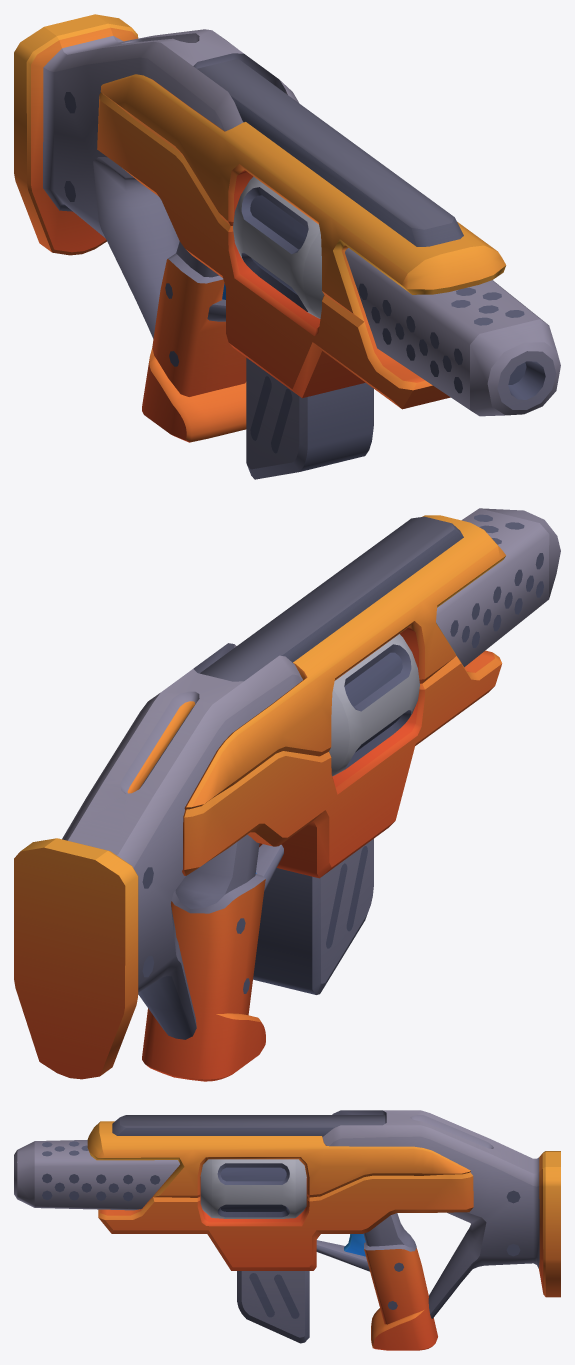
Rendered from Rifle F.fbx.
The picture shows the model from 3 angles, top to bottom: view 1: azimuth 30°, elevation 25°; view 2: azimuth 150°, elevation 25°; view 3: azimuth 270°, elevation 25°; orthographic projection. The views are drawn at different scales.
Visible parts, largest first — view 1: Rifle F, Rifle F.002, Rifle F.001; view 2: Rifle F, Rifle F.002, Rifle F.001; view 3: Rifle F, Rifle F.001, Rifle F.002.
Boxes of the visible parts, <box> form: Rifle F: <box>14,14,560,442</box>; Rifle F.002: <box>246,357,373,479</box>; Rifle F.001: <box>233,176,323,318</box>; Rifle F: <box>14,508,560,1081</box>; Rifle F.002: <box>253,839,373,994</box>; Rifle F.001: <box>329,634,419,776</box>; Rifle F: <box>14,1110,560,1350</box>; Rifle F.001: <box>200,1159,306,1218</box>; Rifle F.002: <box>237,1271,309,1343</box>.
Size of the model in its own units: 0.165 by 0.4803 by 1.08.
